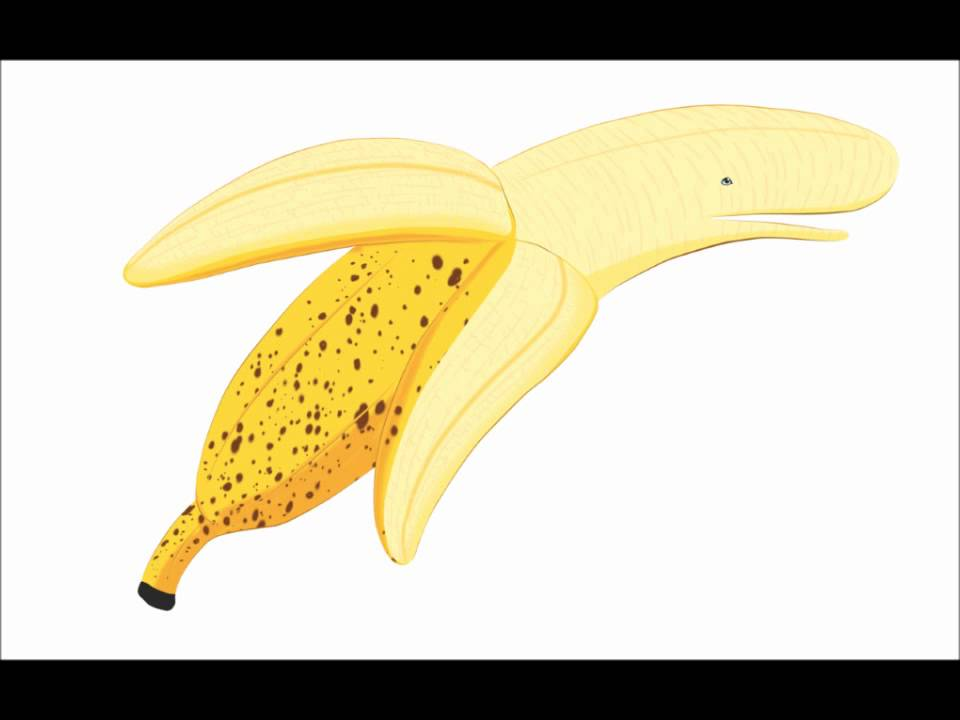banana: (45, 86, 920, 614)
